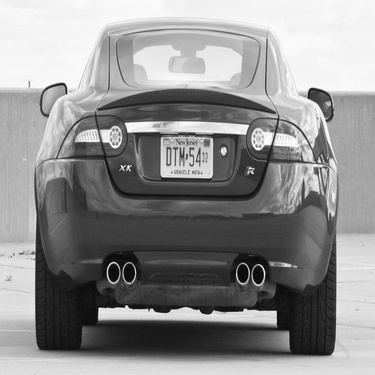car: (1, 20, 348, 359)
